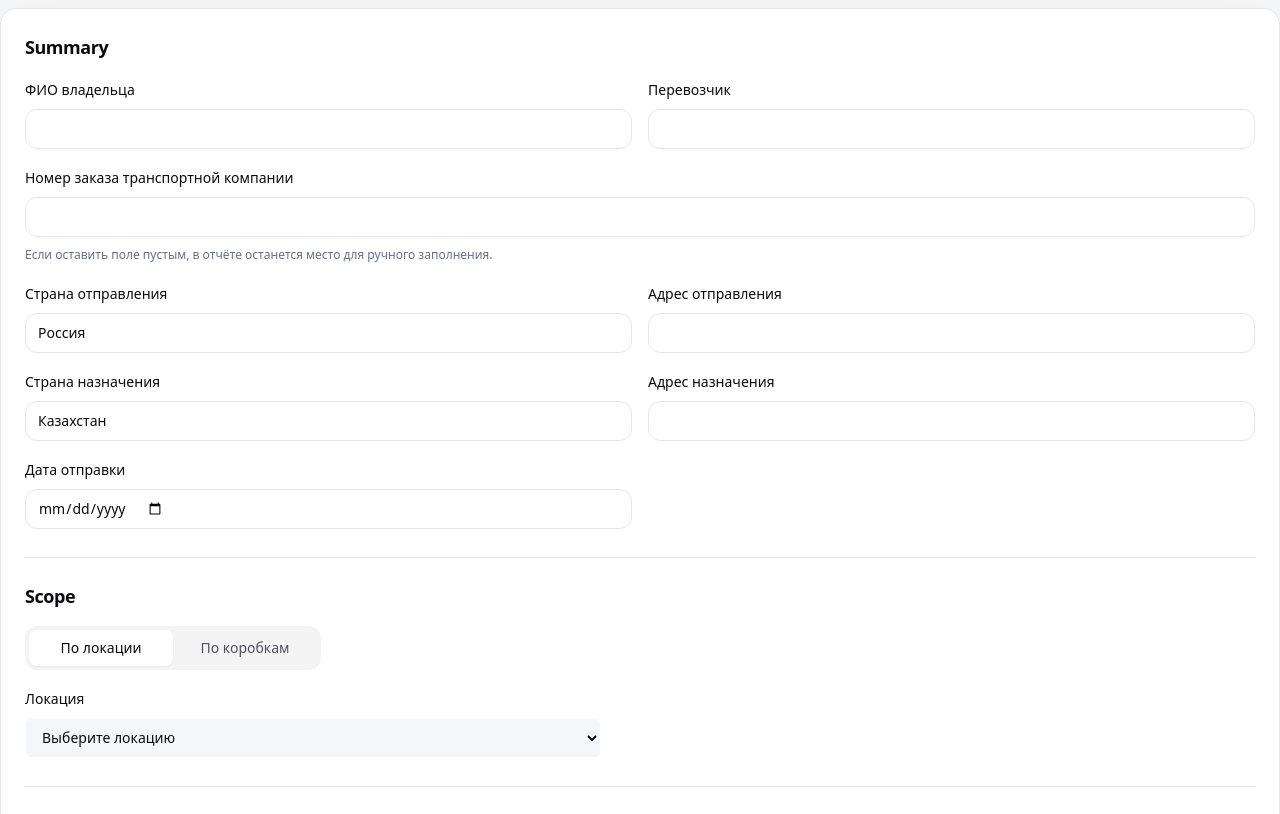
Scenario: documentation form uses the requested defaults and keeps order number optional
Expected: the field labelled "Страна отправления" holds "Россия", [25,312,632,352]
Expected: the field labelled "Страна назначения" holds "Казахстан", [25,400,632,440]
Select "Россия / Москва / Кладовая" in the dropdown labelled "Локация". click: (313, 738)
box: [25,718,601,758]
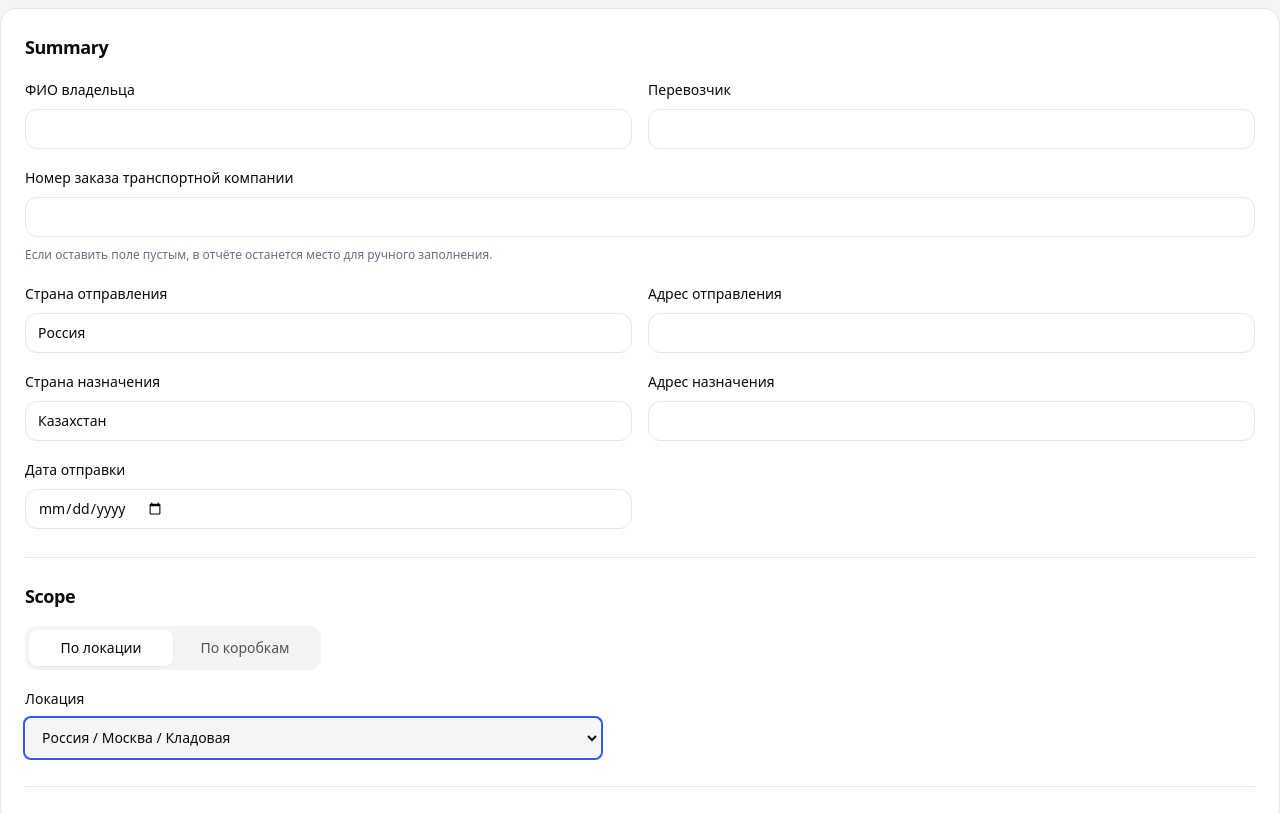
Click the button "По коробкам". click: (245, 648)
box: [173,630,317,666]
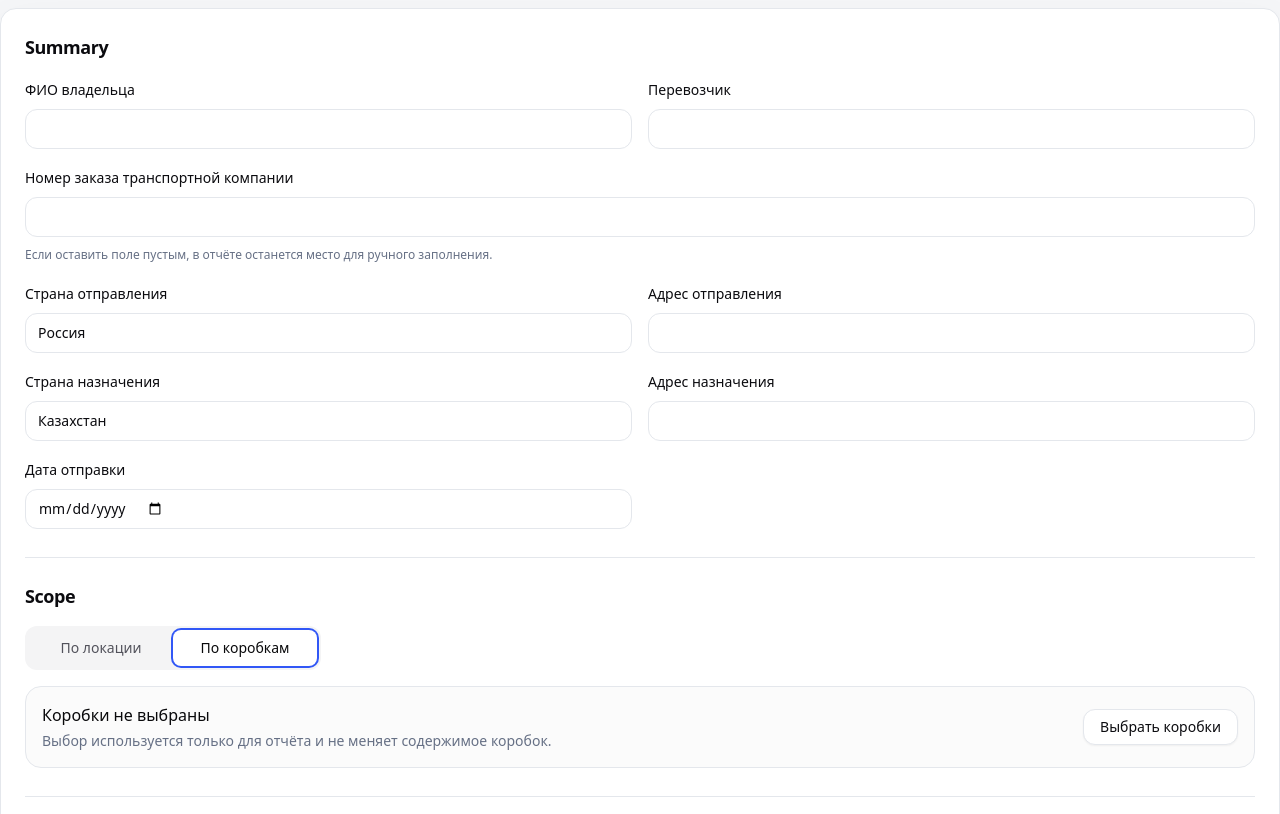
Click the button "По локации". click: (101, 648)
box: [29,630,173,666]
(page scrolled)
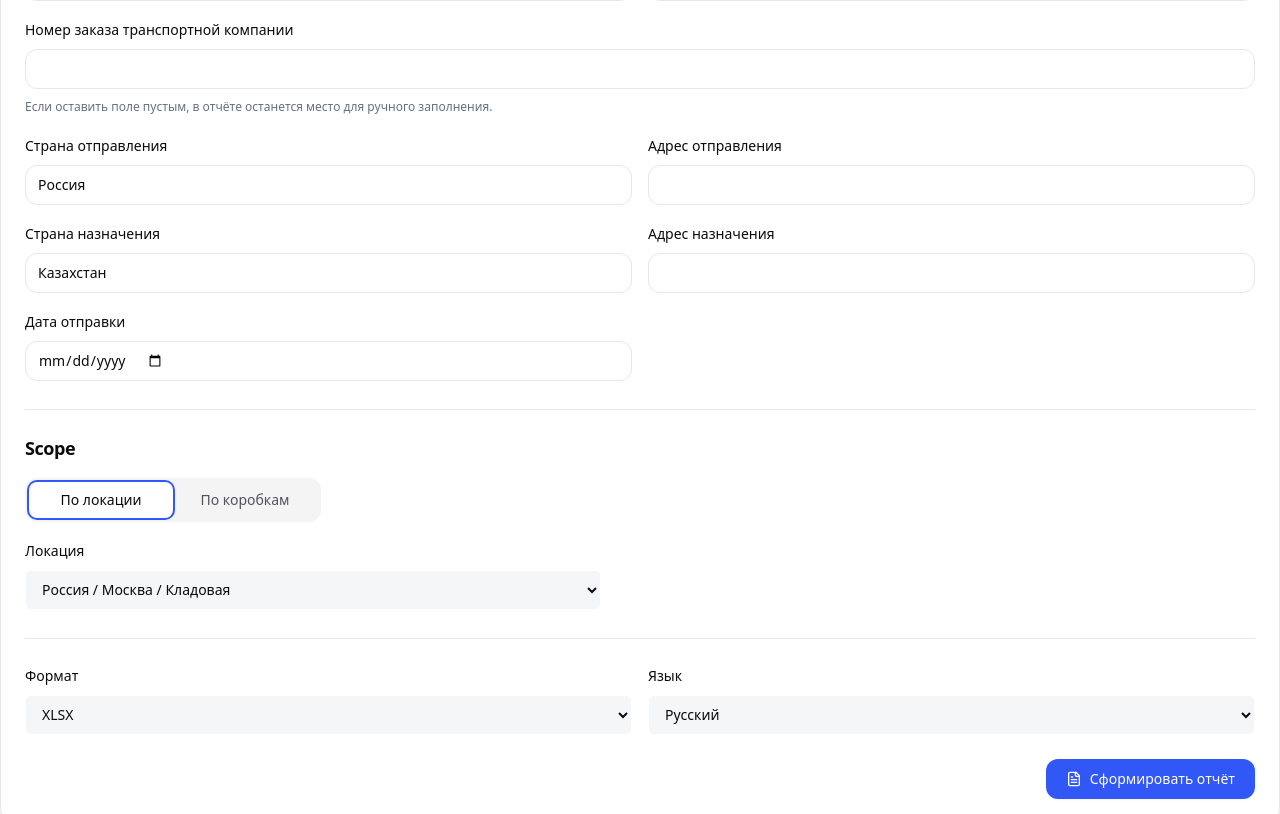
Result: the dropdown labelled "Локация" shows "Россия / Москва / Кладовая" at [25,570,601,610]
Result: the button "Сформировать отчёт" is enabled
Click the button "Сформировать отчёт". click: (1150, 778)
box: [1046,758,1255,798]
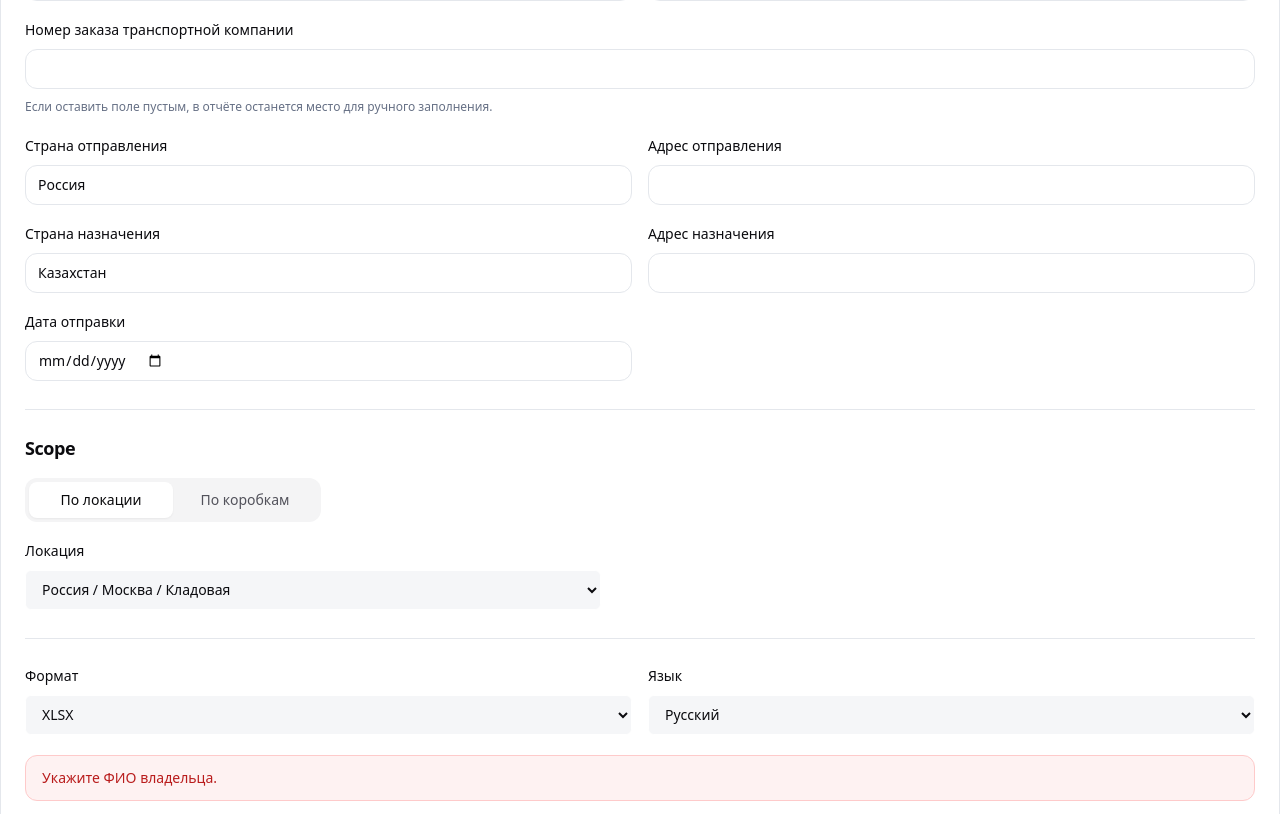
Result: the message shows "Укажите ФИО владельца" at [42,768,217,786]
